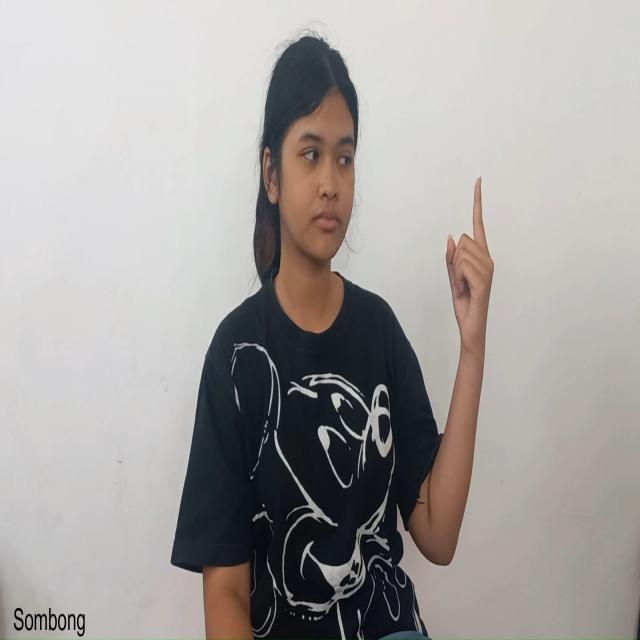Sombong -BISINDO-: (425, 170, 495, 569)
